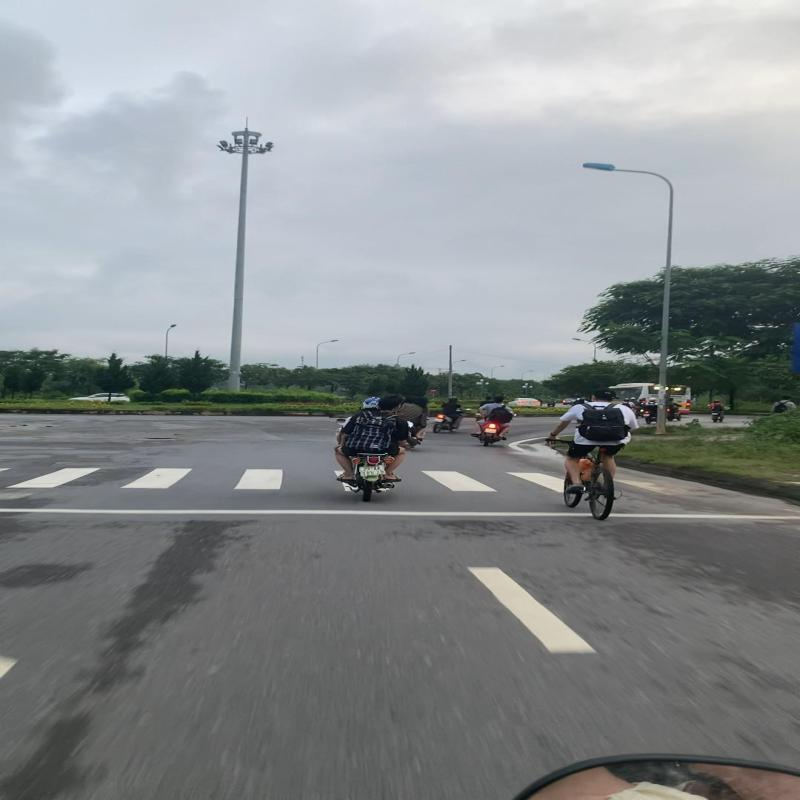helmet: (361, 394, 383, 411)
licenseplate: (358, 464, 388, 478)
motorcyclist: (330, 392, 412, 504)
nohelmet: (376, 392, 407, 414)
